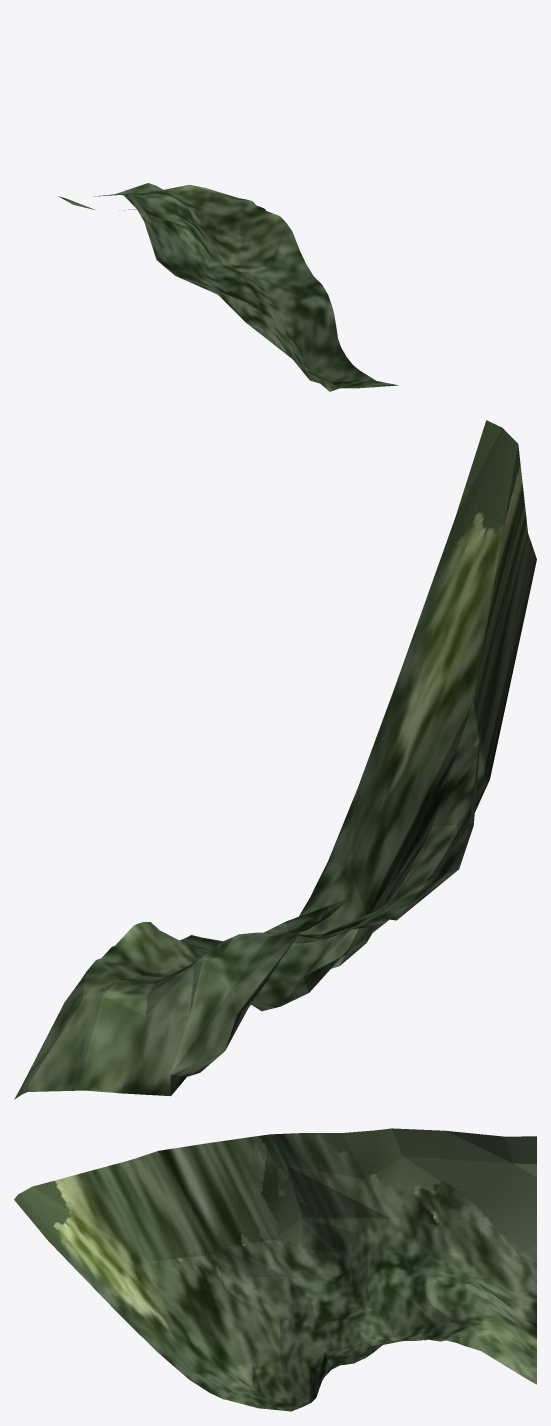
3 renders of one model, top to bottom at view 1: azimuth 30°, elevation 25°; view 2: azimuth 150°, elevation 25°; view 3: azimuth 270°, elevation 25°, orthographic. The views are drawn at different scales.
Size of the model in its own units: 1.81 by 2.56 by 5.6.
1 material, 1 textured.
